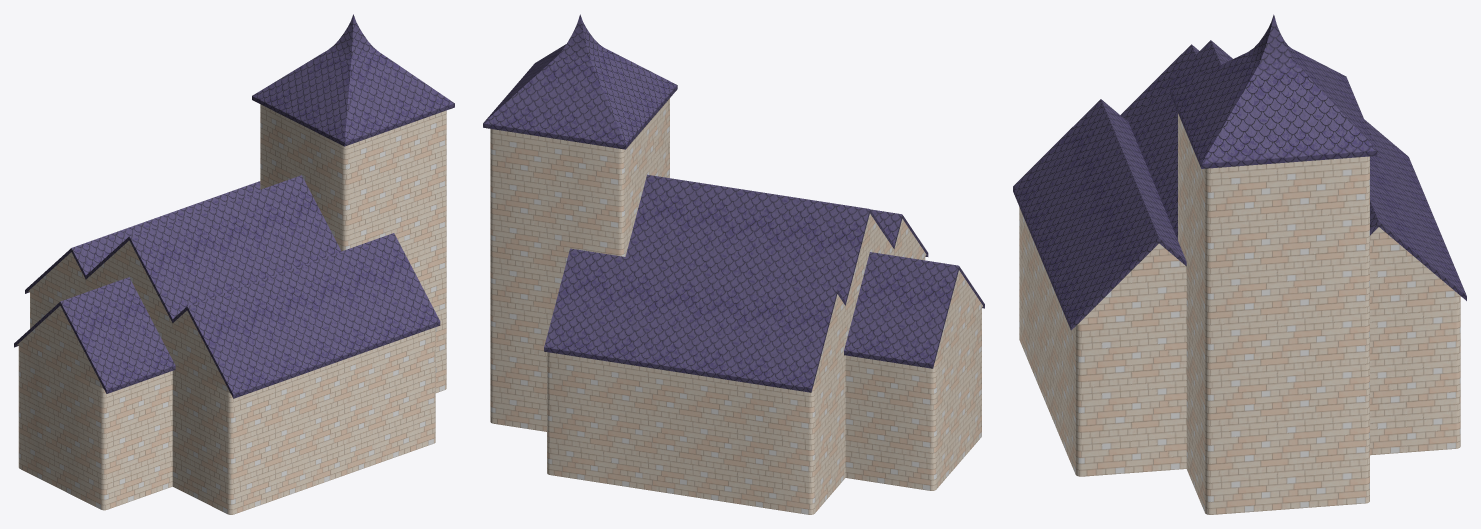
File: Building_Church_Full.fbx
3 views of the same model, side by side, from view 1: azimuth 30°, elevation 25°; view 2: azimuth 150°, elevation 25°; view 3: azimuth 270°, elevation 25° (orthographic). The views are drawn at different scales.
Visible parts, largest first — view 1: Building_Church; view 2: Building_Church; view 3: Building_Church.
Part boxes in pixels (x1,y1,x2,y2): Building_Church: (14,14,454,514); Building_Church: (483,14,984,514); Building_Church: (1013,14,1466,514).
Size of the model in its own units: 2100 by 1820 by 1627.
